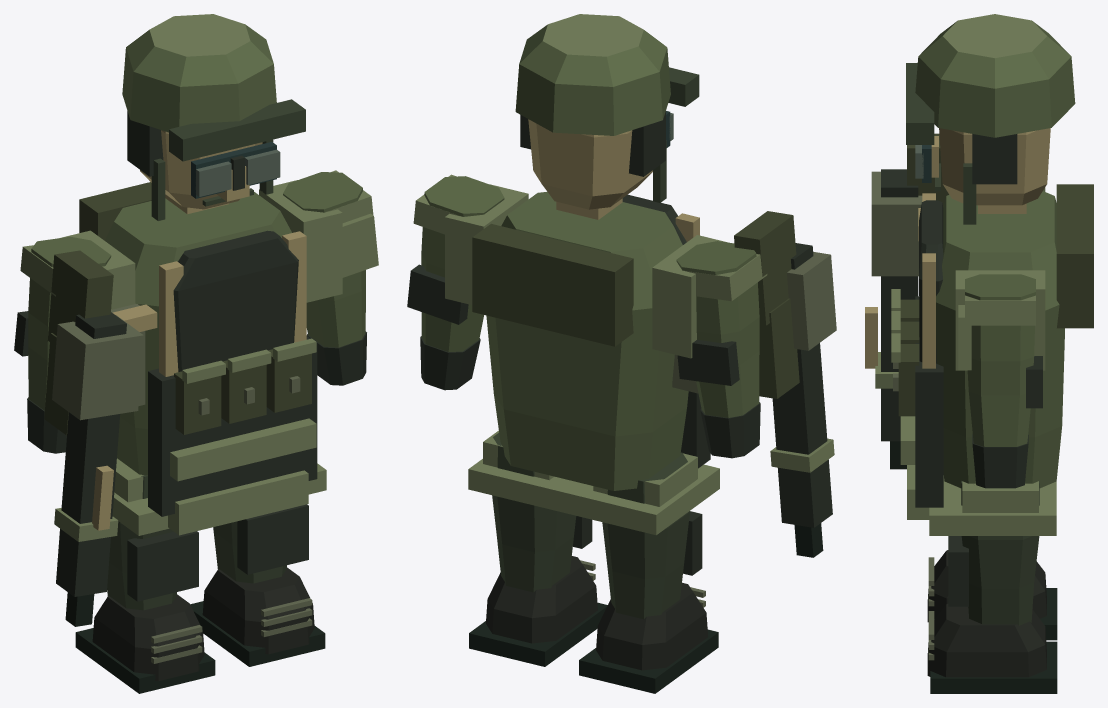
Rendered from rifleman.obj.
The picture shows the model from 3 angles, left to right: view 1: azimuth 30°, elevation 25°; view 2: azimuth 150°, elevation 25°; view 3: azimuth 270°, elevation 25°; orthographic projection.
Visible parts, largest first — view 1: RIFLEMAN_BODY, RIFLEMAN_HEAD, RIFLEMAN_WEAPON, RIFLEMAN_LEG_L, RIFLEMAN_LEG_R, RIFLEMAN_ARM_R, RIFLEMAN_ARM_L; view 2: RIFLEMAN_BODY, RIFLEMAN_HEAD, RIFLEMAN_WEAPON, RIFLEMAN_LEG_L, RIFLEMAN_LEG_R, RIFLEMAN_ARM_L, RIFLEMAN_ARM_R; view 3: RIFLEMAN_BODY, RIFLEMAN_HEAD, RIFLEMAN_LEG_R, RIFLEMAN_ARM_R, RIFLEMAN_WEAPON, RIFLEMAN_LEG_L.
Part boxes in pixels (x1,y1,x2,y2): RIFLEMAN_BODY: [61, 180, 342, 535]; RIFLEMAN_HEAD: [122, 14, 305, 220]; RIFLEMAN_WEAPON: [44, 250, 143, 626]; RIFLEMAN_LEG_L: [75, 458, 215, 693]; RIFLEMAN_LEG_R: [190, 504, 325, 666]; RIFLEMAN_ARM_R: [283, 170, 378, 385]; RIFLEMAN_ARM_L: [14, 236, 111, 453]; RIFLEMAN_BODY: [445, 184, 726, 535]; RIFLEMAN_HEAD: [515, 14, 699, 219]; RIFLEMAN_WEAPON: [734, 211, 836, 557]; RIFLEMAN_LEG_L: [579, 452, 718, 693]; RIFLEMAN_LEG_R: [469, 430, 607, 666]; RIFLEMAN_ARM_L: [676, 241, 767, 458]; RIFLEMAN_ARM_R: [407, 174, 504, 390]; RIFLEMAN_BODY: [891, 184, 1093, 535]; RIFLEMAN_HEAD: [906, 14, 1075, 224]; RIFLEMAN_LEG_R: [927, 481, 1057, 693]; RIFLEMAN_ARM_R: [958, 274, 1042, 488]; RIFLEMAN_WEAPON: [865, 133, 948, 469]; RIFLEMAN_LEG_L: [927, 550, 1057, 640].
Bounding box in the file's own units: 1.06 × 1.81 × 0.6125.
Materials: 1 (1 with a texture image).
